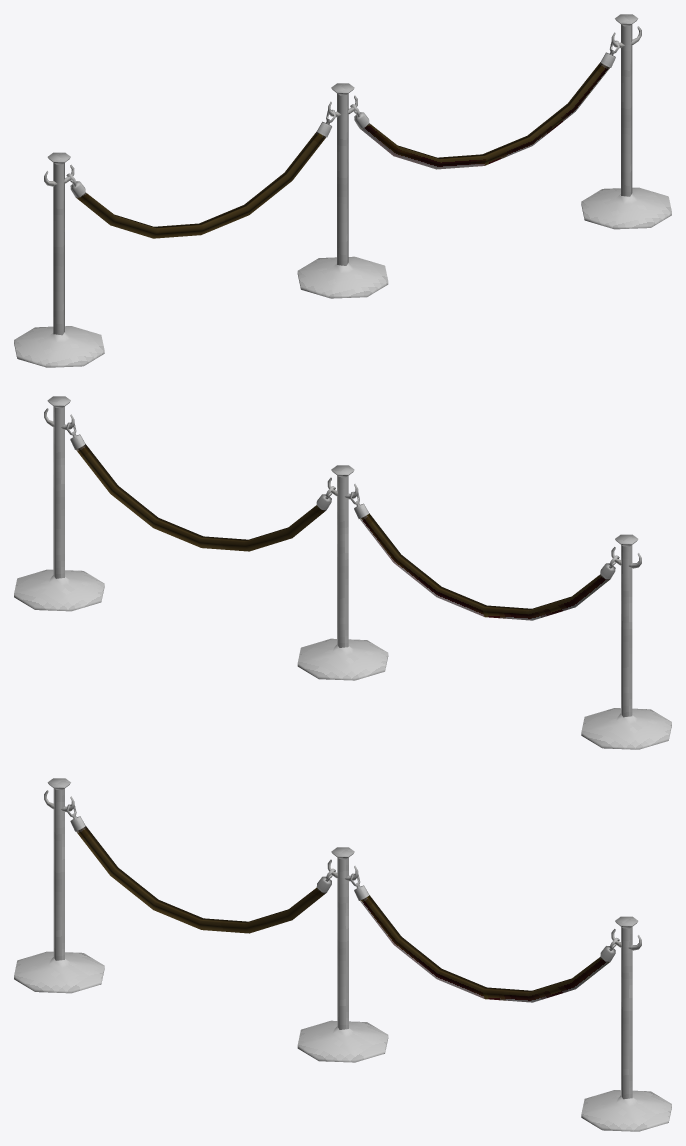
Rendered from objects_un_c01ropepartition01.gltf.
3 renders of one model, top to bottom at view 1: azimuth 30°, elevation 25°; view 2: azimuth 150°, elevation 25°; view 3: azimuth 330°, elevation 25°, orthographic.
Parts seen in each view (by area): view 1: objects_un_c01ropepartition01_mesh_shape:objects_un_c01ropep; view 2: objects_un_c01ropepartition01_mesh_shape:objects_un_c01ropep; view 3: objects_un_c01ropepartition01_mesh_shape:objects_un_c01ropep.
Boxes of the visible parts, x1=… form: objects_un_c01ropepartition01_mesh_shape:objects_un_c01ropep: x1=14, y1=14, x2=671, y2=367; objects_un_c01ropepartition01_mesh_shape:objects_un_c01ropep: x1=14, y1=396, x2=671, y2=749; objects_un_c01ropepartition01_mesh_shape:objects_un_c01ropep: x1=14, y1=778, x2=671, y2=1131.
Size of what is drawn, in the model's own units: 2.83 by 0.7969 by 0.3661.
Materials: 1 (1 with a texture image).
